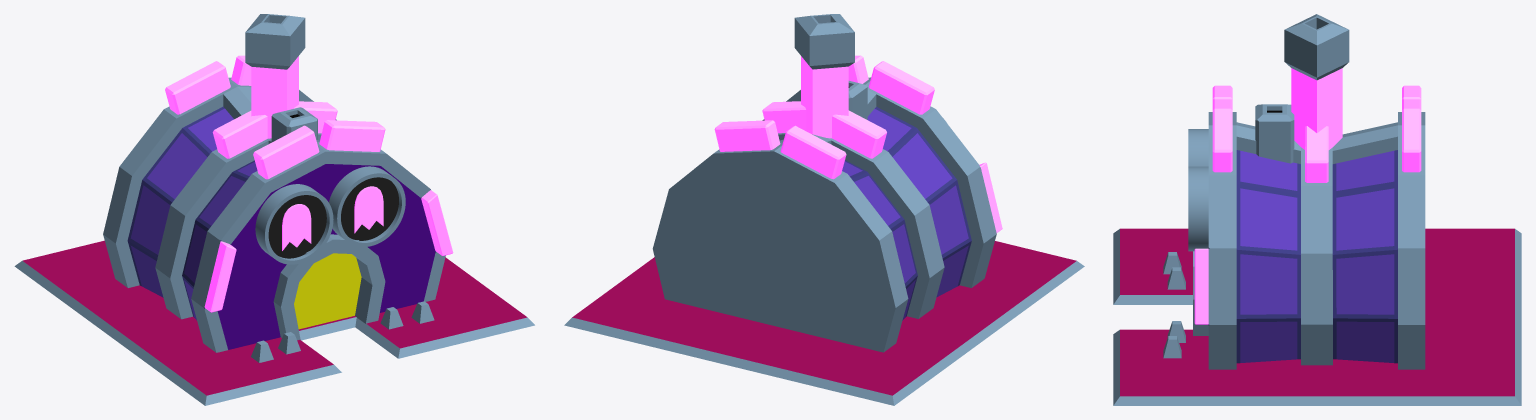
File: Lodge5.fbx
The picture shows the model from 3 angles, left to right: view 1: azimuth 30°, elevation 25°; view 2: azimuth 150°, elevation 25°; view 3: azimuth 270°, elevation 25°; orthographic projection. The views are drawn at different scales.
Parts seen in each view (by area): view 1: lodge5; view 2: lodge5; view 3: lodge5.
Part boxes in pixels (x1,y1,x2,y2): lodge5: (14,14,534,405); lodge5: (564,14,1084,405); lodge5: (1113,14,1521,405).
Size of the model in its own units: 412 by 337 by 412.
